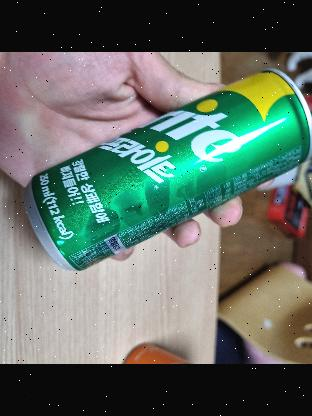Can: (31, 75, 309, 271)
